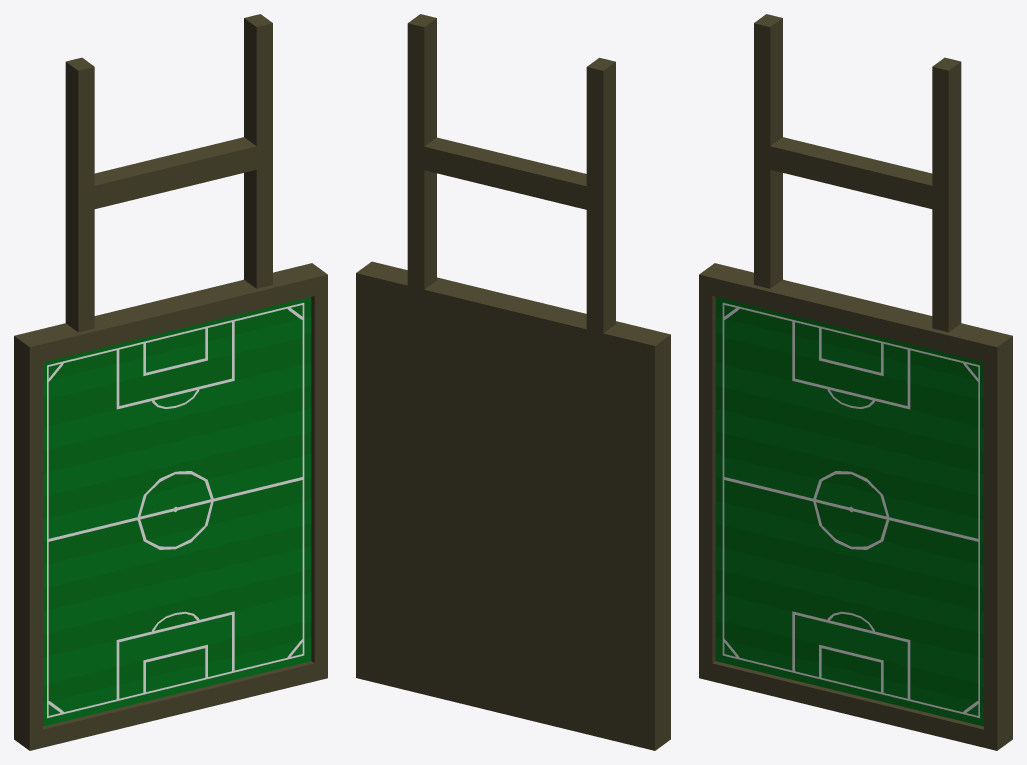
Rendered from Campo Tático.fbx.
3 views of the same model, side by side, from view 1: azimuth 30°, elevation 25°; view 2: azimuth 150°, elevation 25°; view 3: azimuth 330°, elevation 25° (orthographic).
Parts seen in each view (by area): view 1: Cube.001; view 2: Cube.001; view 3: Cube.001.
Part boxes in pixels (x1,y1,x2,y2): Cube.001: (14, 14, 327, 750); Cube.001: (356, 14, 670, 750); Cube.001: (699, 14, 1012, 750).
Size of the model in its own units: 220 by 468 by 20.13.
